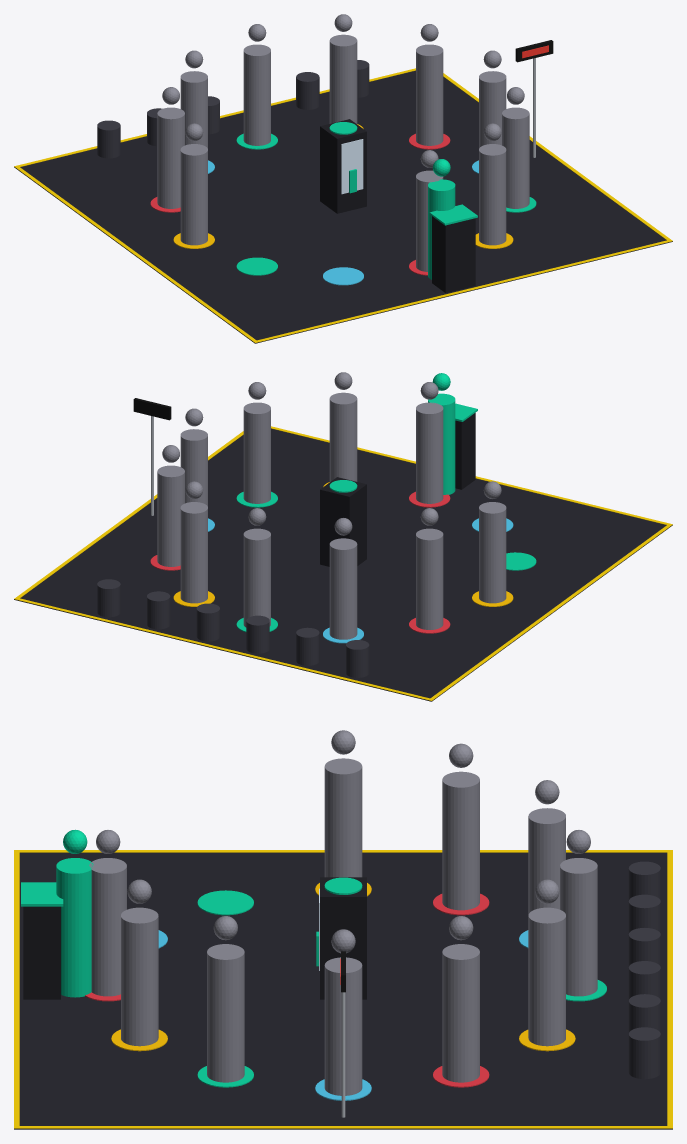
File: G02_COUNTERFLOW.obj
The picture shows the model from 3 angles, top to bottom: view 1: azimuth 30°, elevation 25°; view 2: azimuth 150°, elevation 25°; view 3: azimuth 270°, elevation 25°; orthographic projection. The views are drawn at different scales.
Parts seen in each view (by area): view 1: floor_area, operator_lectern, player_1_body, player_4_body, player_9_body, player_6_body, discard_tower, player_2_body, player_8_body, player_5_body, player_7_body, player_3_body (+12 smaller); view 2: floor_area, player_7_body, player_2_body, player_5_body, player_9_body, player_8_body, player_0_body, discard_tower, player_4_body, player_6_body, player_1_body, player_3_body (+14 smaller); view 3: floor_area, player_8_body, player_1_body, player_5_body, player_2_body, player_4_body, player_3_body, player_6_body, player_9_body, operator_body, player_0_body, operator_lectern (+15 smaller).
Boxes of the visible parts, left/top/right/bottom form: floor_area: left=14, top=70, right=672, bottom=343; operator_lectern: left=432, top=216, right=475, bottom=293; player_1_body: left=479, top=144, right=506, bottom=245; player_4_body: left=416, top=44, right=443, bottom=145; player_9_body: left=180, top=144, right=207, bottom=245; player_6_body: left=243, top=44, right=270, bottom=145; discard_tower: left=320, top=119, right=366, bottom=213; player_2_body: left=502, top=107, right=529, bottom=208; player_8_body: left=157, top=107, right=184, bottom=208; player_5_body: left=329, top=34, right=357, bottom=123; player_7_body: left=180, top=71, right=207, bottom=148; player_3_body: left=479, top=71, right=506, bottom=148; floor_area: left=14, top=428, right=672, bottom=701; player_7_body: left=329, top=538, right=357, bottom=639; player_2_body: left=243, top=402, right=270, bottom=503; player_5_body: left=180, top=502, right=207, bottom=603; player_9_body: left=479, top=502, right=506, bottom=603; player_8_body: left=416, top=528, right=443, bottom=629; player_0_body: left=416, top=402, right=443, bottom=503; discard_tower: left=320, top=477, right=366, bottom=566; player_4_body: left=157, top=465, right=184, bottom=566; player_6_body: left=243, top=528, right=270, bottom=627; player_1_body: left=329, top=392, right=357, bottom=481; player_3_body: left=180, top=429, right=207, bottom=506; floor_area: left=14, top=852, right=672, bottom=1129; player_8_body: left=442, top=771, right=479, bottom=910; player_1_body: left=121, top=907, right=158, bottom=1046; player_5_body: left=528, top=907, right=565, bottom=1046; player_2_body: left=207, top=944, right=244, bottom=1082; player_4_body: left=442, top=944, right=479, bottom=1082; player_3_body: left=324, top=957, right=362, bottom=1095; player_6_body: left=560, top=858, right=597, bottom=996; player_9_body: left=324, top=758, right=362, bottom=877; operator_body: left=56, top=858, right=93, bottom=997; player_0_body: left=89, top=858, right=126, bottom=996; operator_lectern: left=23, top=906, right=60, bottom=999.
Bounding box in the file's own units: 7 × 1.87 × 7.
